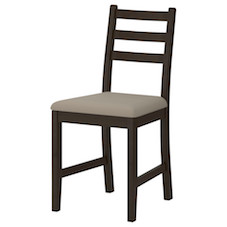chair: (26, 3, 217, 224)
